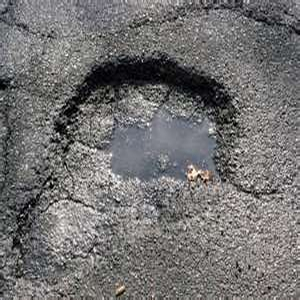pothole: (47, 45, 242, 202)
